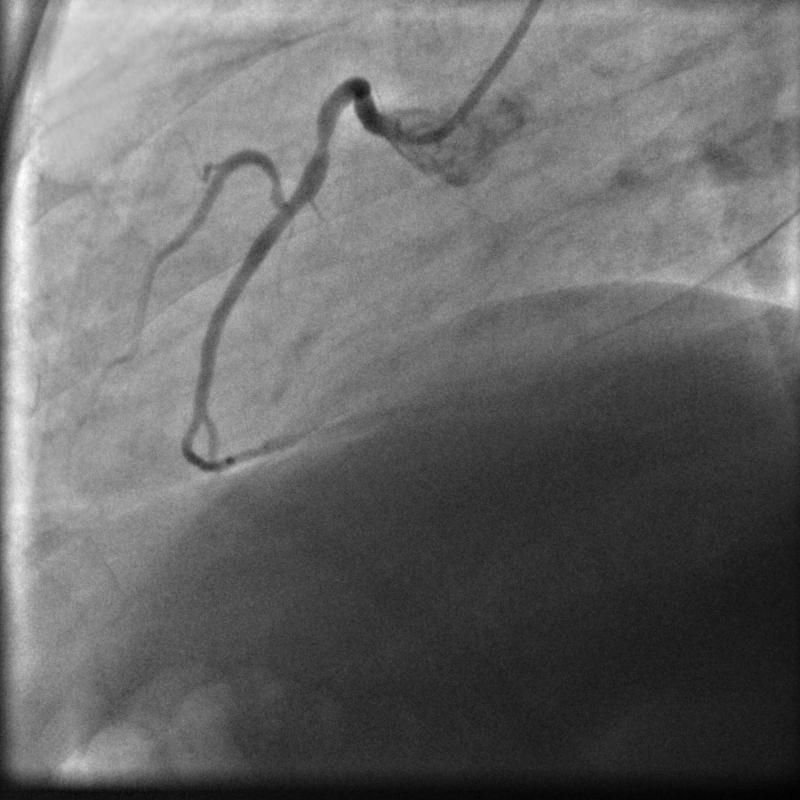Stenosis: (309, 124, 336, 153)
